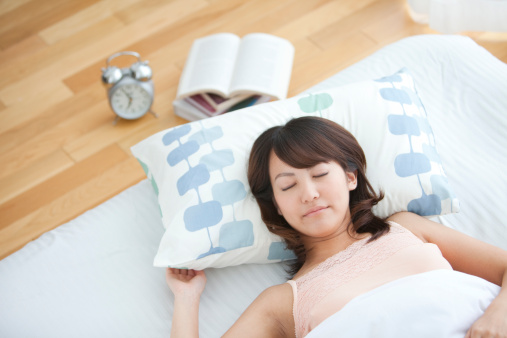deitado: (202, 113, 507, 338)
